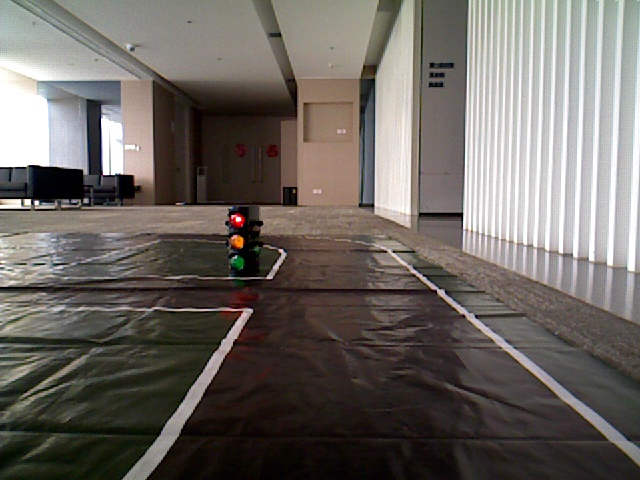red: (227, 212, 251, 271)
